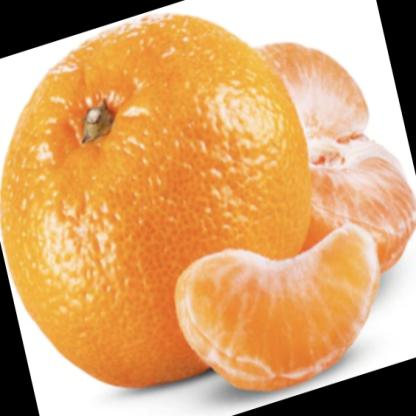fresh: (1, 13, 311, 388)
